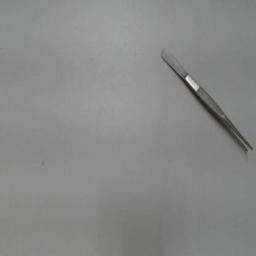Gillies Toothed Dissector: (158, 40, 256, 156)
